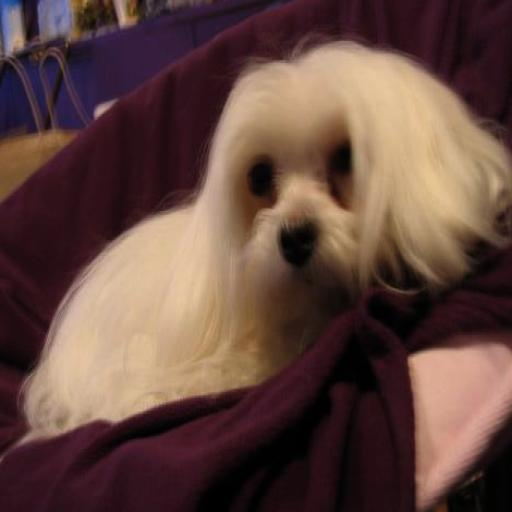dog_face: (208, 63, 460, 336)
